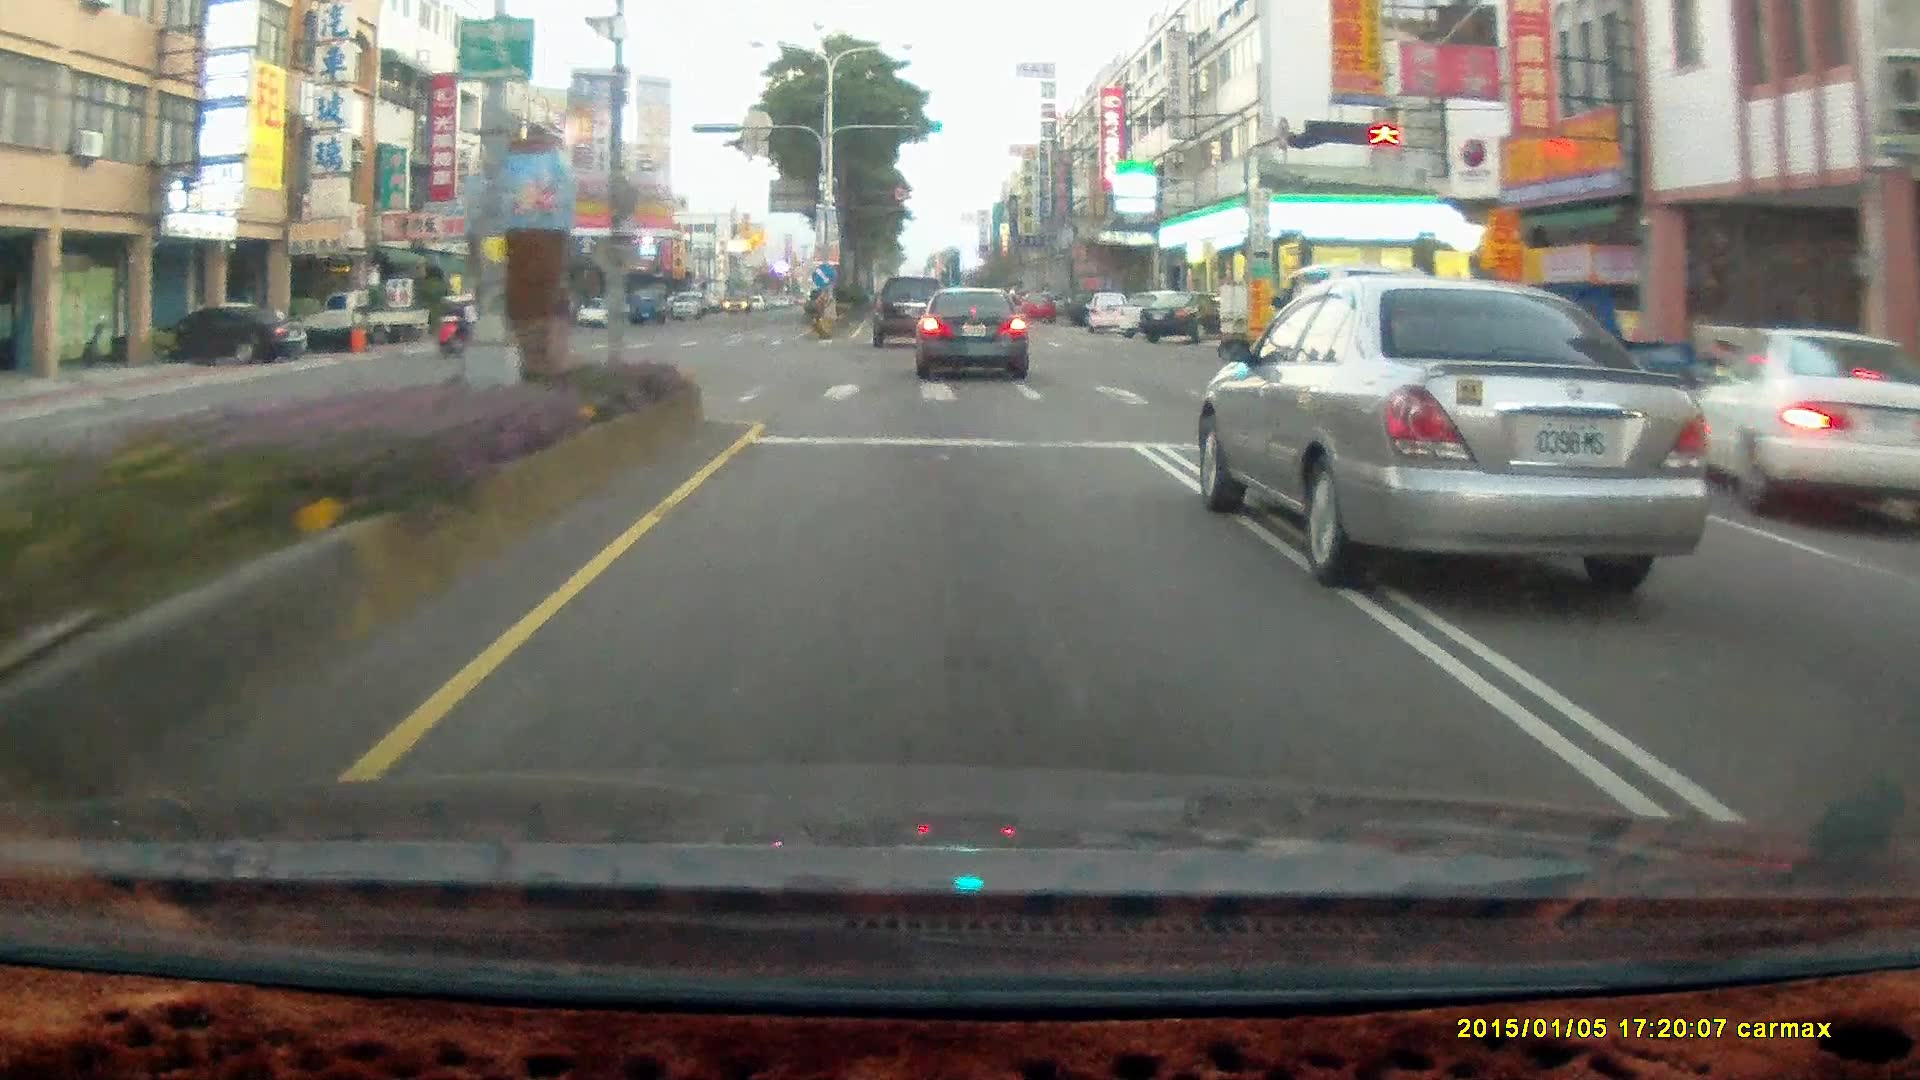rider: (437, 291, 479, 353)
vehicle: (1193, 270, 1711, 580), (1678, 324, 1920, 525), (1692, 329, 1920, 525), (1457, 277, 1702, 442), (1275, 263, 1470, 397), (915, 283, 1027, 377), (917, 290, 1031, 381), (138, 302, 304, 359), (295, 287, 428, 347), (175, 304, 308, 364), (308, 290, 432, 354), (875, 271, 958, 348), (875, 271, 951, 343), (1140, 284, 1236, 337), (1143, 288, 1223, 349), (1117, 289, 1180, 334), (1063, 284, 1118, 323), (1082, 286, 1132, 328), (1087, 290, 1131, 335), (577, 295, 621, 325), (1017, 287, 1052, 318), (632, 291, 663, 321), (665, 288, 697, 312)
